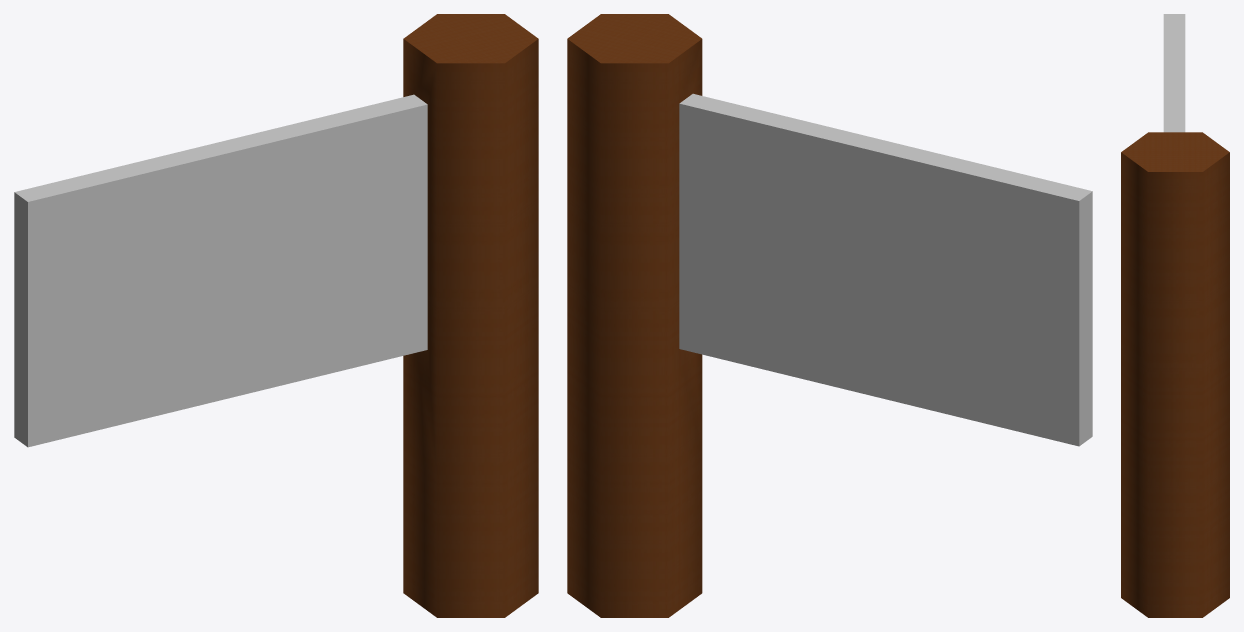
Rendered from Flag.FBX.
3 renders of one model, left to right at view 1: azimuth 30°, elevation 25°; view 2: azimuth 150°, elevation 25°; view 3: azimuth 270°, elevation 25°, orthographic. The views are drawn at different scales.
Parts seen in each view (by area): view 1: Box003, Cylinder001; view 2: Box003, Cylinder001; view 3: Cylinder001, Box003.
Boxes of the visible parts, <box> form: Box003: <box>14,94,427,447</box>; Cylinder001: <box>403,14,538,617</box>; Box003: <box>679,93,1092,446</box>; Cylinder001: <box>567,14,702,617</box>; Cylinder001: <box>1121,132,1229,617</box>; Box003: <box>1163,14,1185,132</box>.
Size of the model in its own units: 29.79 by 31.5 by 6.96.
